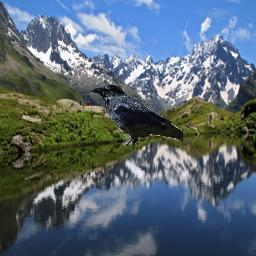Crow: (89, 84, 183, 146)
